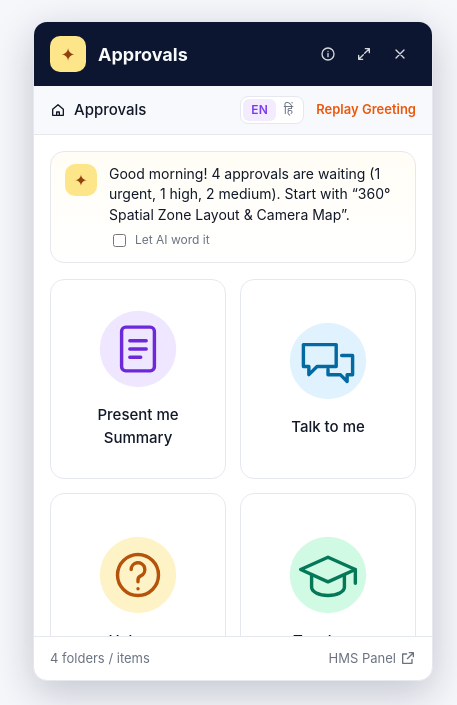
Test case: AssistantPanel › opening Talk to me shows the chat
Click the button "Talk to me": (328, 379) x1=240 y1=279 x2=416 y2=479
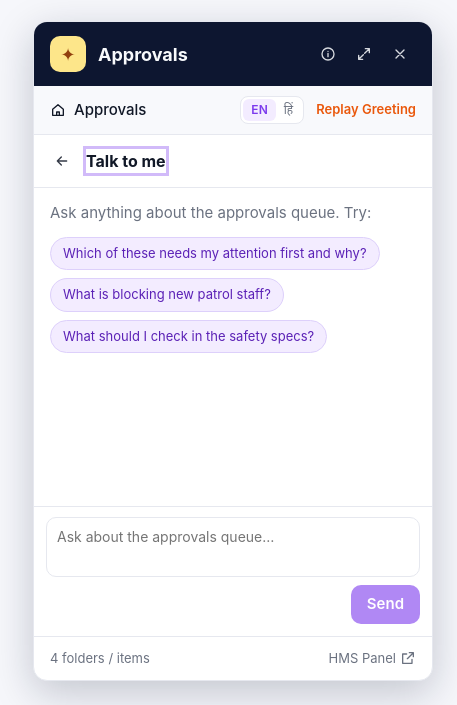
Expected: the text box named "message" is shown, x1=46 y1=517 x2=420 y2=577
